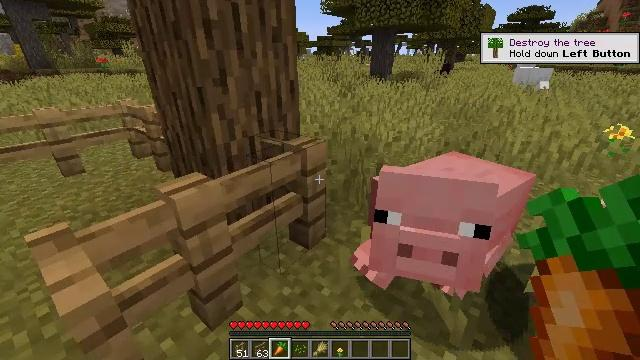pig: (364, 152, 535, 301)
sheep: (514, 63, 553, 90)
